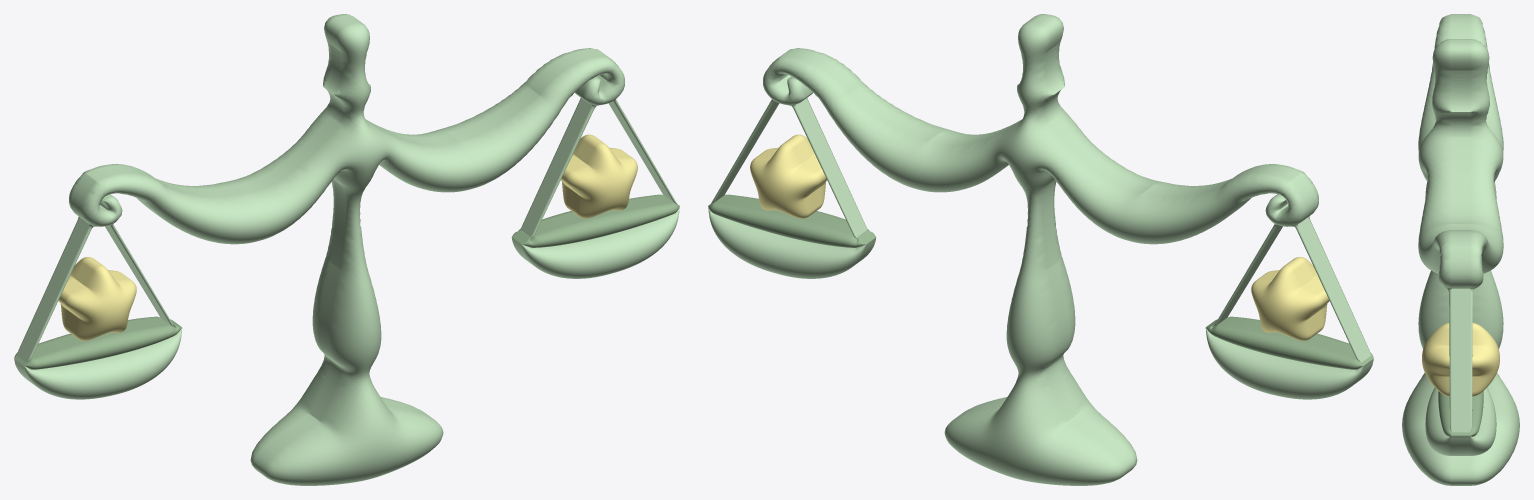
The model's file is 천칭자리.glb.
The picture shows the model from 3 angles, left to right: view 1: azimuth 30°, elevation 25°; view 2: azimuth 150°, elevation 25°; view 3: azimuth 270°, elevation 25°; orthographic projection. The views are drawn at different scales.
Bounding box in the file's own units: 0.1504 × 0.0989 × 0.0251.
